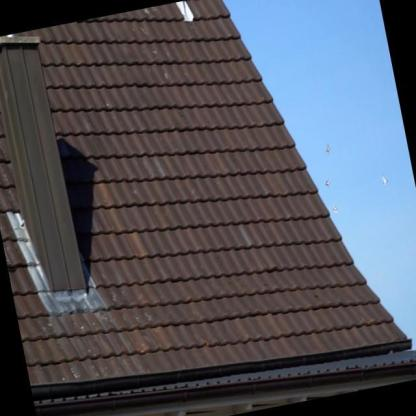bird: (324, 141, 334, 156), (380, 172, 389, 187), (332, 201, 340, 214), (324, 179, 332, 189)
